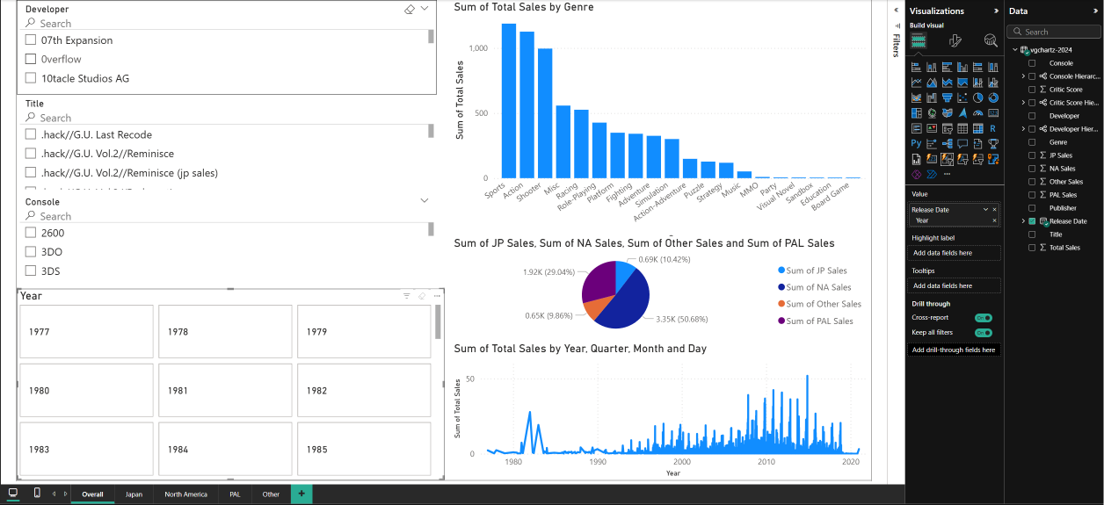

This screenshot's page, from the dashboard's own definition file:
{"tool":"powerbi","page":{"name":"Overall","canvas":[1280,720],"ordinal":0},"visuals":[{"type":"lineChart","fields":{"Category":["vgchartz-2024.Release Date.Variation.Date Hierarchy.Year","vgchartz-2024.Release Date.Variation.Date Hierarchy.Quarter","vgchartz-2024.Release Date.Variation.Date Hierarchy.Month","vgchartz-2024.Release Date.Variation.Date Hierarchy.Day"],"Y":["Sum(vgchartz-2024.Total Sales)"]},"box":[650.1,511.6,629.9,208.4],"z":0},{"type":"clusteredColumnChart","fields":{"Category":["vgchartz-2024.Genre"],"Y":["Sum(vgchartz-2024.Total Sales)"]},"box":[650.1,0,629.9,371.1],"z":1000},{"type":"advancedSlicerVisual","fields":{"Values":["vgchartz-2024.Release Date.Variation.Date Hierarchy.Year"]},"box":[0,433.2,640.3,286.8],"z":2000},{"type":"slicer","fields":{"Values":["vgchartz-2024.Developer Hierarchy.Developer"]},"box":[0,0,629.9,141.8],"z":3000},{"type":"slicer","fields":{"Values":["vgchartz-2024.Title"]},"box":[0,141.8,629.9,147],"z":4000},{"type":"pieChart","fields":{"Y":["Sum(vgchartz-2024.JP Sales)","Sum(vgchartz-2024.NA Sales)","Sum(vgchartz-2024.Other Sales)","Sum(vgchartz-2024.PAL Sales)"]},"box":[650.1,354.1,629.9,157.5],"z":5000},{"type":"slicer","fields":{"Values":["vgchartz-2024.Console Hierarchy.Console"]},"box":[0,288.8,629.9,130.7],"z":6000}]}

Visuals, with their boxes on the page's 1280x720 design canvas (x1, y1, x2, y2). These are canvas units, not pixel positions in the 1104x505 screenshot, which may show the page scaled, cropped or inside an application window:
lineChart - vgchartz-2024.Release Date.Variation.Date Hierarchy.Year x vgchartz-2024.Release Date.Variation.Date Hierarchy.Quarter: (650, 512, 1280, 720)
clusteredColumnChart - vgchartz-2024.Genre x Sum(vgchartz-2024.Total Sales): (650, 0, 1280, 371)
advancedSlicerVisual - vgchartz-2024.Release Date.Variation.Date Hierarchy.Year: (0, 433, 640, 720)
slicer - vgchartz-2024.Developer Hierarchy.Developer: (0, 0, 630, 142)
slicer - vgchartz-2024.Title: (0, 142, 630, 289)
pieChart - Sum(vgchartz-2024.JP Sales) x Sum(vgchartz-2024.NA Sales): (650, 354, 1280, 512)
slicer - vgchartz-2024.Console Hierarchy.Console: (0, 289, 630, 420)
